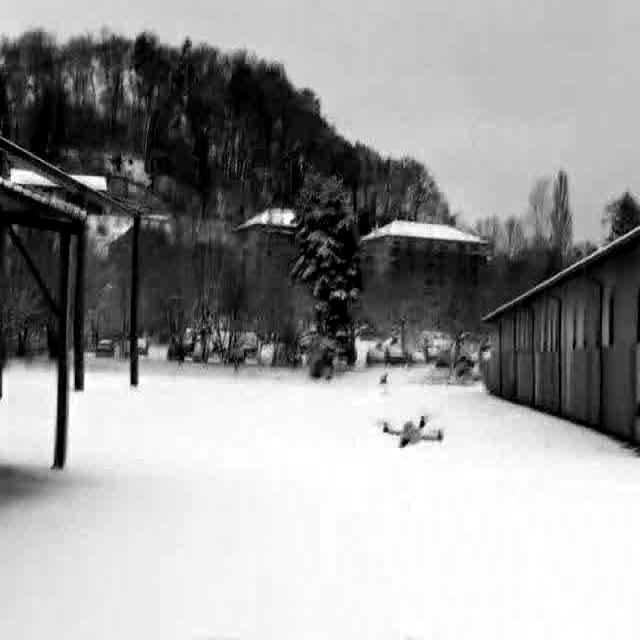drone: (368, 400, 483, 457)
